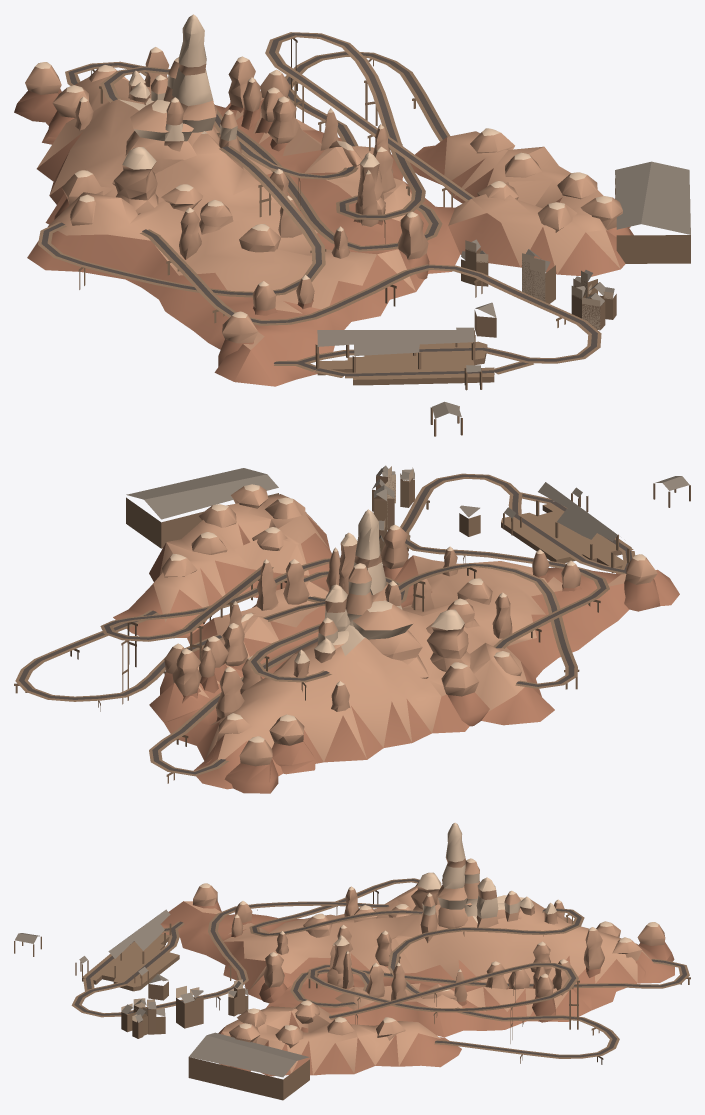
Rendered from detail.glb.
The picture shows the model from 3 angles, top to bottom: view 1: azimuth 30°, elevation 25°; view 2: azimuth 150°, elevation 25°; view 3: azimuth 270°, elevation 25°; orthographic projection. The views are drawn at different scales.
Visible parts, largest first — view 1: big-thunder-mountain-railroad-disneyland; view 2: big-thunder-mountain-railroad-disneyland; view 3: big-thunder-mountain-railroad-disneyland.
Part boxes in pixels (x1=…): big-thunder-mountain-railroad-disneyland: x1=14, y1=14, x2=690, y2=436; big-thunder-mountain-railroad-disneyland: x1=14, y1=465, x2=690, y2=793; big-thunder-mountain-railroad-disneyland: x1=14, y1=822, x2=690, y2=1100.
Bounding box in the file's own units: 94.81 × 31.2 × 135.
